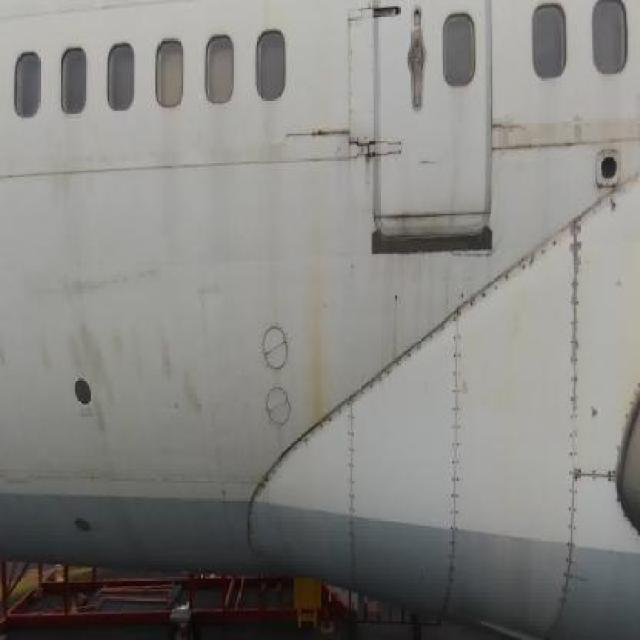Missing-Rivet: (558, 210, 584, 612), (464, 239, 559, 324), (358, 328, 438, 415), (444, 303, 468, 585), (347, 394, 361, 571), (587, 455, 613, 493)
Rust: (294, 192, 344, 434)
Scartch: (1, 320, 207, 468), (52, 256, 166, 313), (493, 113, 590, 169), (190, 267, 224, 315)
